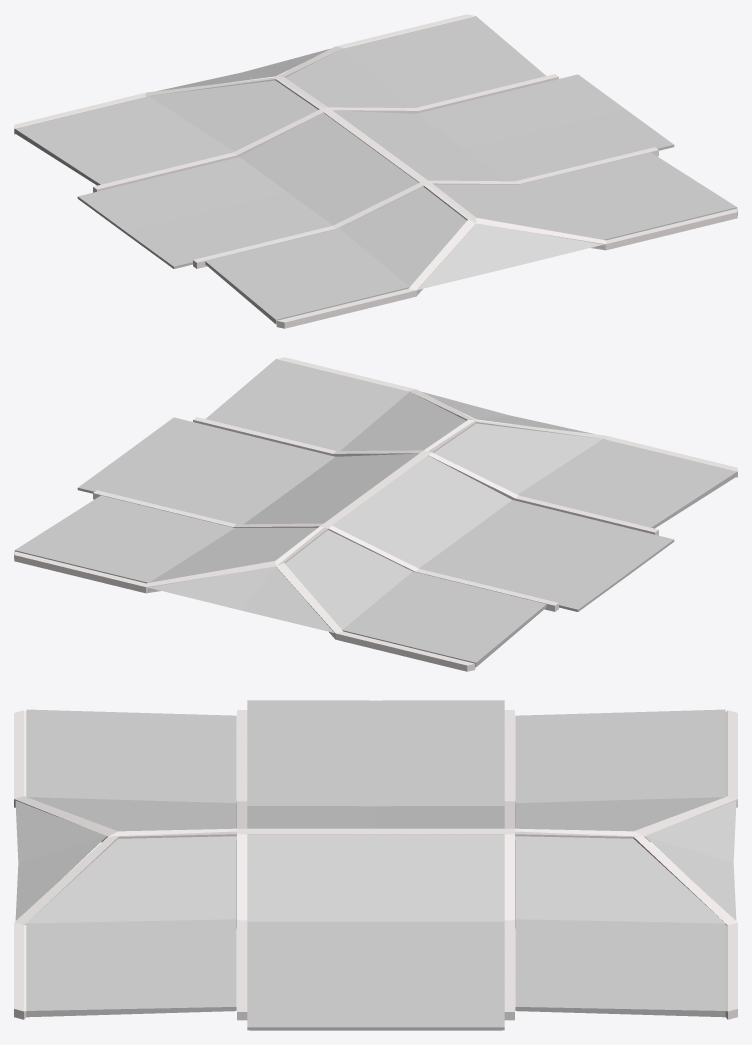
3 renders of one model, top to bottom at view 1: azimuth 30°, elevation 25°; view 2: azimuth 150°, elevation 25°; view 3: azimuth 270°, elevation 25°, orthographic. The views are drawn at different scales.
Visible parts, largest first — view 1: GlassCeiling; view 2: GlassCeiling; view 3: GlassCeiling.
Part boxes in pixels (x1,y1,x2,y2): GlassCeiling: (14,14,737,328); GlassCeiling: (14,357,737,671); GlassCeiling: (14,700,737,1030).
Size of the model in its own units: 5.34 by 0.2875 by 5.
2 materials, 1 textured.
